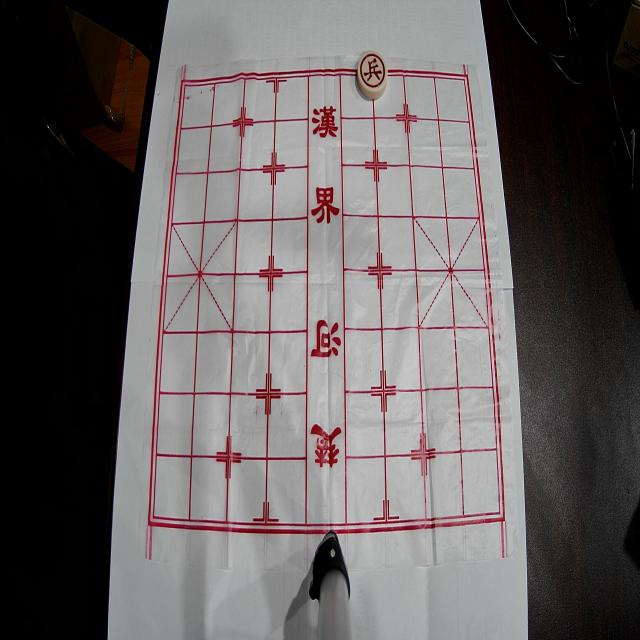red-soldier: (358, 51, 388, 99)
